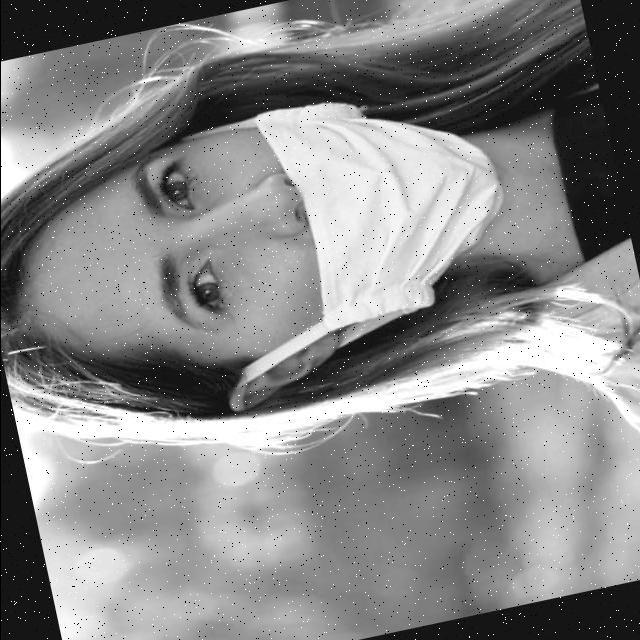mask: (299, 59, 533, 316)
no_gloves: (0, 96, 167, 464)
